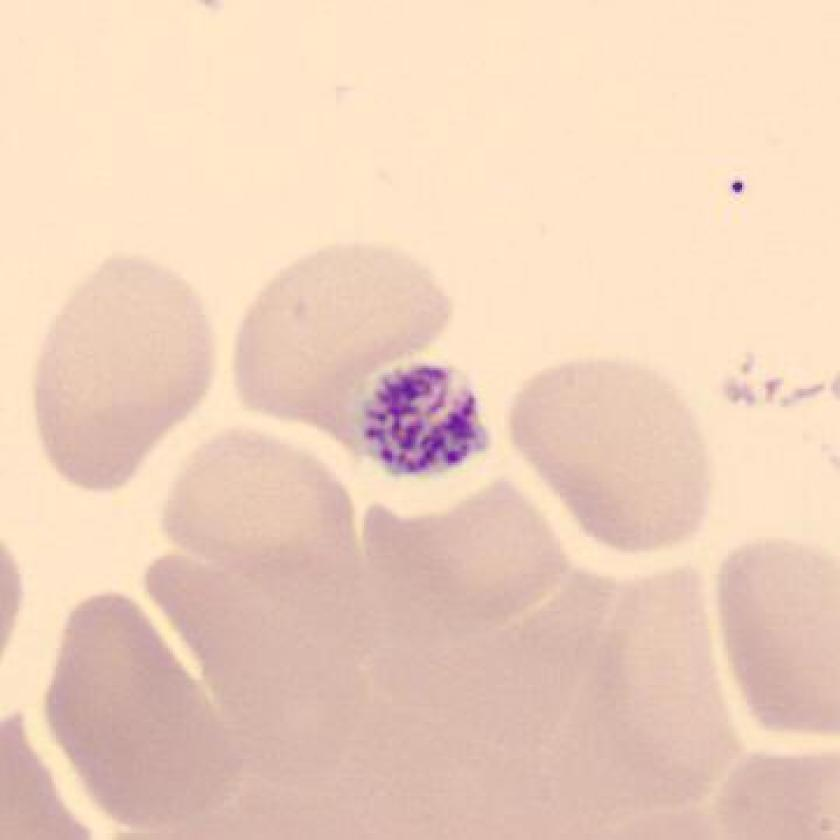platelets: (349, 351, 505, 492)
